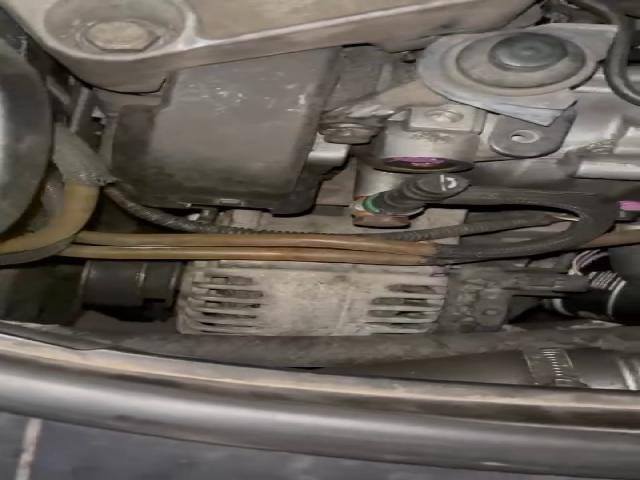alternator: (176, 258, 590, 335)
high_pressure_pump: (328, 48, 640, 221)
